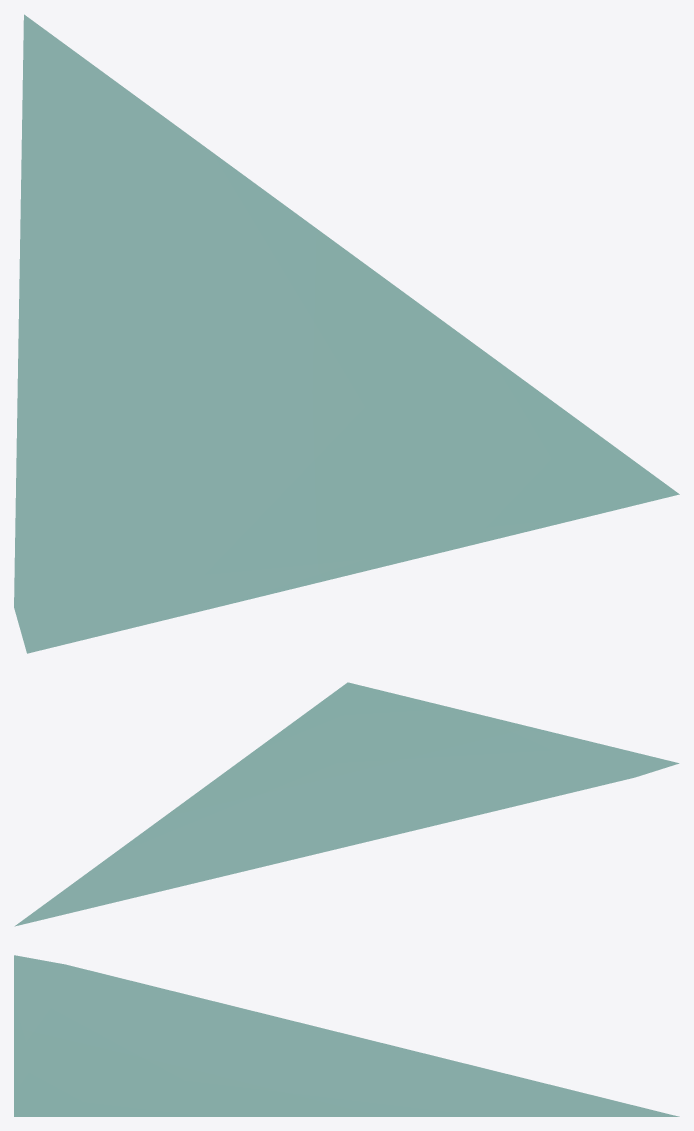
File: water-14-12.glb
The picture shows the model from 3 angles, top to bottom: view 1: azimuth 30°, elevation 25°; view 2: azimuth 150°, elevation 25°; view 3: azimuth 270°, elevation 25°; orthographic projection. The views are drawn at different scales.
Size of the model in its own units: 1.04 by 0 by 1.81.
